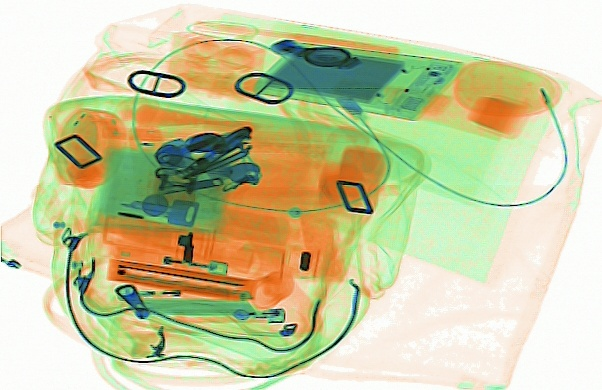lighter: (113, 245, 229, 278), (115, 281, 229, 310), (180, 304, 287, 326)
